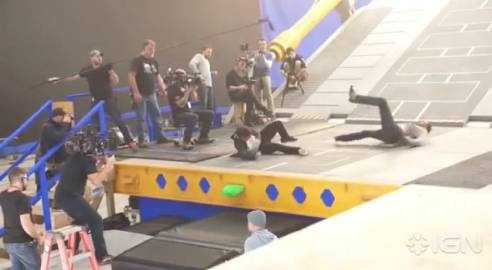falling: (223, 116, 314, 163)
